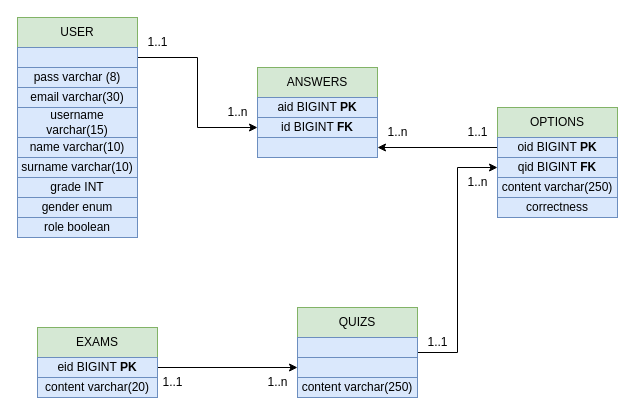
The diagram is 635 pixels wide and 415 high, and some of its shapes have lost their labels. Each missing label, with the box of its shape:
eid BIGINT FK: (296, 356, 418, 378)
id BIGINT PK: (16, 46, 138, 68)
oid BIGINT FK: (256, 136, 378, 158)
qid BIGINT PK: (296, 336, 418, 358)
